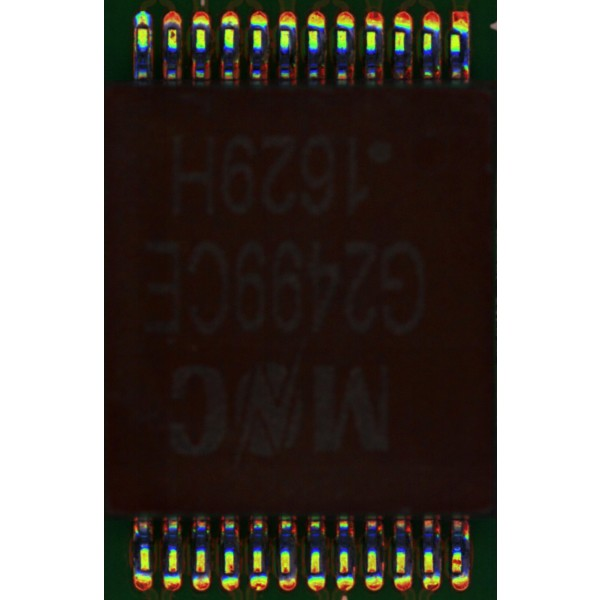Bad_qiaojiao: (148, 28, 153, 62), (133, 28, 138, 58)
